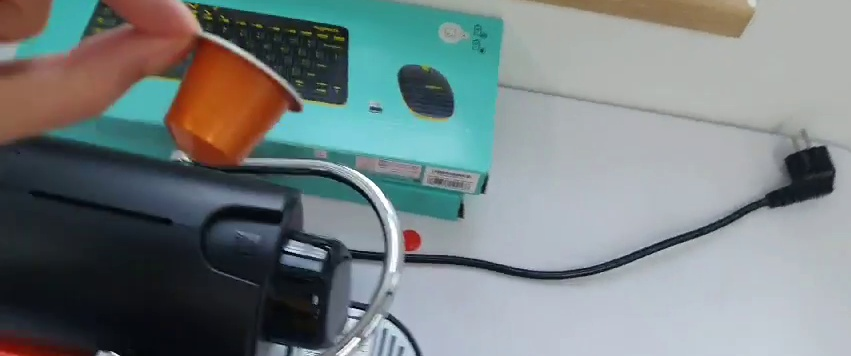capsule_5: (163, 27, 304, 171)
